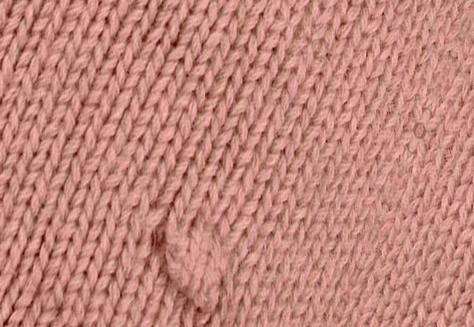knot: (151, 207, 243, 317)
